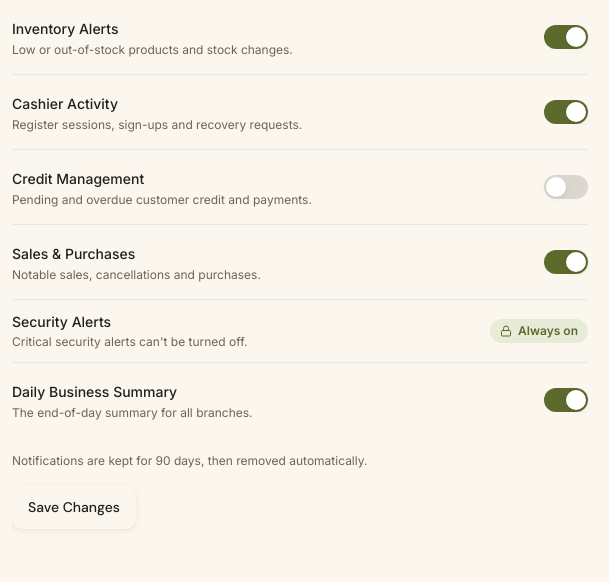
Test case: Notification settings › keeps the admin's unsaved choices when saving fails
Click the switch named "Cashier Activity" in the row of "Cashier Activity" at (566, 112), box [544,100,588,124]
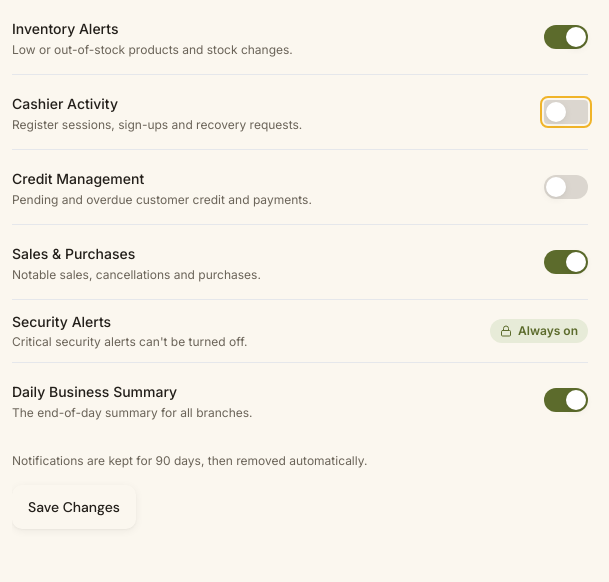
Click the button "Save Changes" at (74, 507), box [12,485,136,529]
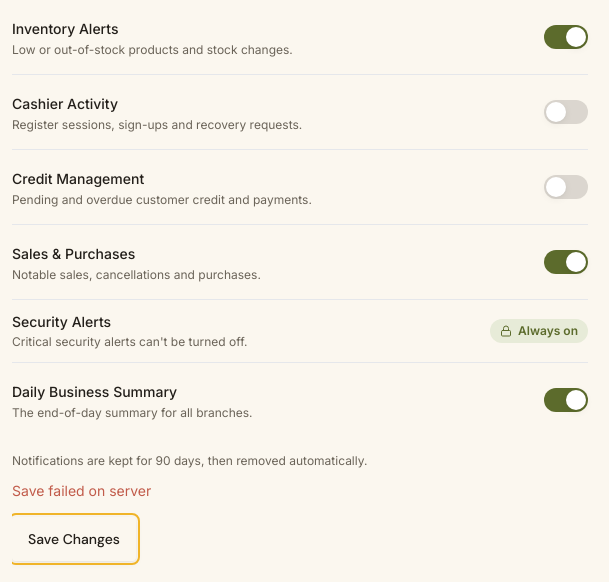
Expected: the button "Save Changes" is enabled, [12,517,136,561]
Expected: the text "Save failed on server" is shown, [12,482,151,499]
